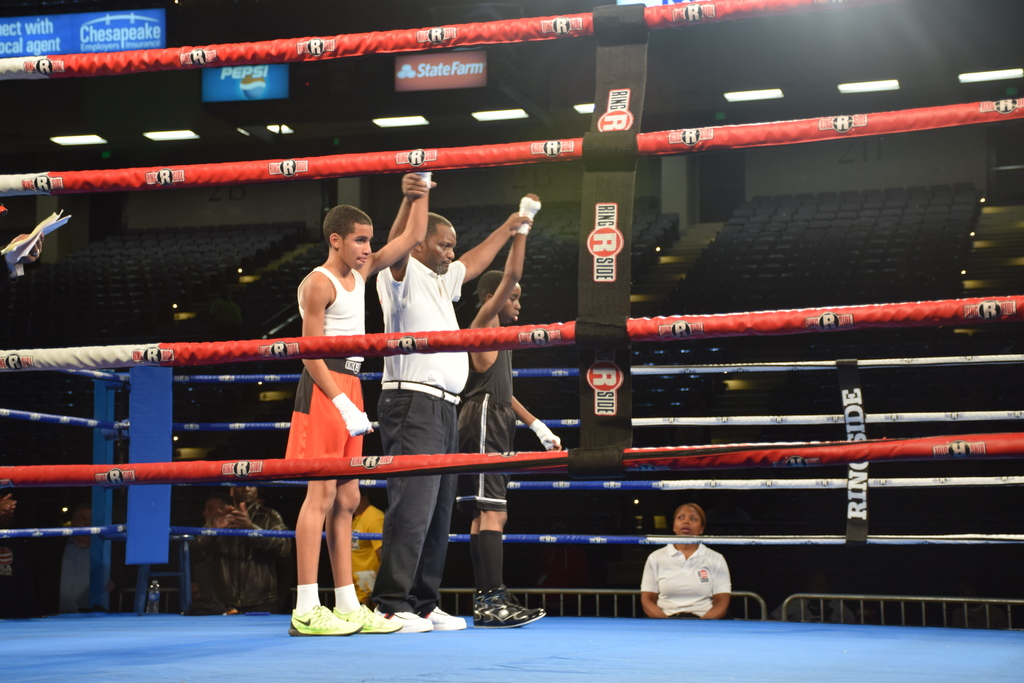Person: (277, 165, 431, 637), (450, 192, 561, 629), (190, 483, 295, 615), (637, 503, 733, 624), (41, 503, 121, 613), (340, 485, 388, 607), (0, 232, 45, 287)
